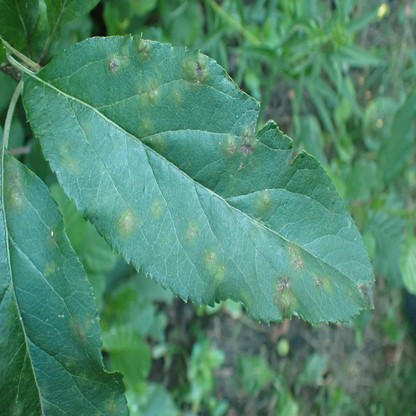powdery_mildew: (356, 280, 374, 308), (346, 213, 352, 229)
scab: (180, 49, 210, 92), (1, 158, 23, 213), (273, 275, 297, 315), (43, 228, 62, 278), (108, 34, 129, 72), (141, 118, 163, 153), (202, 246, 225, 279), (136, 78, 159, 109), (59, 143, 80, 173), (238, 126, 258, 157), (68, 316, 91, 342), (118, 209, 139, 237), (254, 189, 273, 219), (135, 31, 154, 61), (287, 244, 303, 272), (312, 271, 331, 292), (184, 219, 199, 245), (224, 135, 237, 157), (99, 400, 116, 416), (11, 395, 24, 415), (77, 374, 93, 388), (151, 199, 162, 218), (169, 88, 179, 108), (240, 289, 251, 307), (82, 120, 91, 135), (237, 160, 243, 171), (65, 359, 72, 367), (348, 289, 353, 298)
